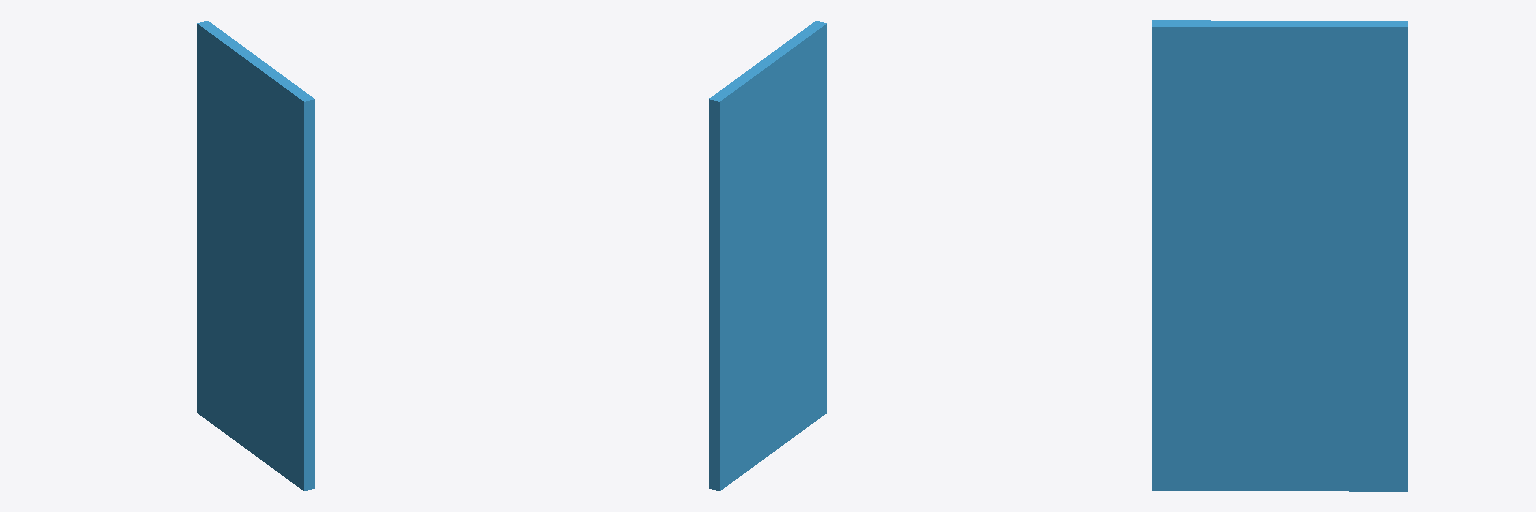
robot.urdf — door_bedroom:
<?xml version="1.0" ?>
<robot name="door_bedroom">
  <link name="world"/>
  <joint name="link_joint_bedroom" type="revolute">
    <axis xyz="0 0 -1"/>
    <parent link="world"/>
    <origin rpy="0 0 1.57" xyz="3.73 1.8 0"/>
    <limit effort="100.0" lower="0" upper="1.57" velocity="5"/>
    <child link="link_bedroom"/>
  </joint>
  <link name="link_bedroom">
    <inertial>
      <mass value="20"/>
      <origin xyz="0 0 0.06"/>
      <inertia ixx="1.0" ixy="0.0" ixz="0.0" iyy="1" iyz="0.0" izz="3"/>
    </inertial>
    <visual>
      <origin rpy="0 0 0" xyz="0.5 0.03 1.06"/>
      <geometry>
        <box size="1 0.06 2"/>
      </geometry>
    </visual>
    <collision>
      <origin rpy="0 0 0" xyz="0 0 0"/>
      <geometry>
        <box size="0 0 0"/>
      </geometry>
    </collision>
  </link>
  <gazebo reference="link_bedroom">
    <material>Gazebo/RustySteel</material>
    <laserRetro>2000</laserRetro>
    <dampingFactor>0.005</dampingFactor>
    <selfCollide>true</selfCollide>
    <turnGravityOff>true</turnGravityOff>
  </gazebo>
</robot>

--- Render facts (derived) ---
Views: 3 orthographic renders of the robot side by side, from view 1: azimuth 30°, elevation 25°; view 2: azimuth 150°, elevation 25°; view 3: azimuth 270°, elevation 25°.
Robot: door_bedroom — 2 links, 1 joints (1 revolute); root link world; default pose: all joints at 0.
Links seen in each view (by area): view 1: link_bedroom; view 2: link_bedroom; view 3: link_bedroom.
Boxes of the visible links, bbox=[...] form: link_bedroom: bbox=[197, 21, 314, 490]; link_bedroom: bbox=[709, 21, 826, 490]; link_bedroom: bbox=[1152, 20, 1407, 491].
Size in the robot's own frame: 0.0608 by 1 by 2 metres.
Geometry: primitives only (box / cylinder / sphere), no mesh files.
